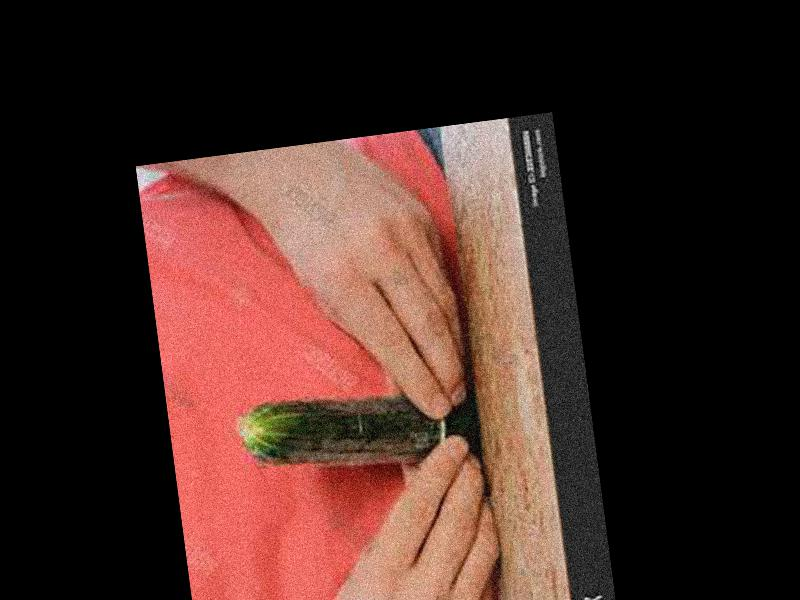Cucumber: (236, 375, 480, 483)
